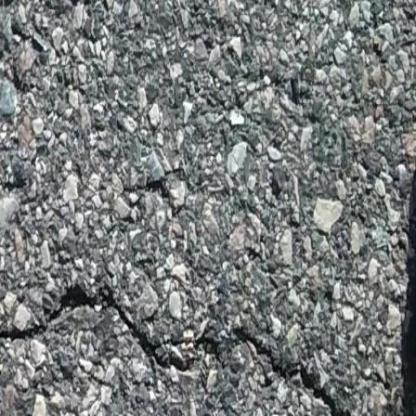Cracks: (0, 282, 416, 416)
